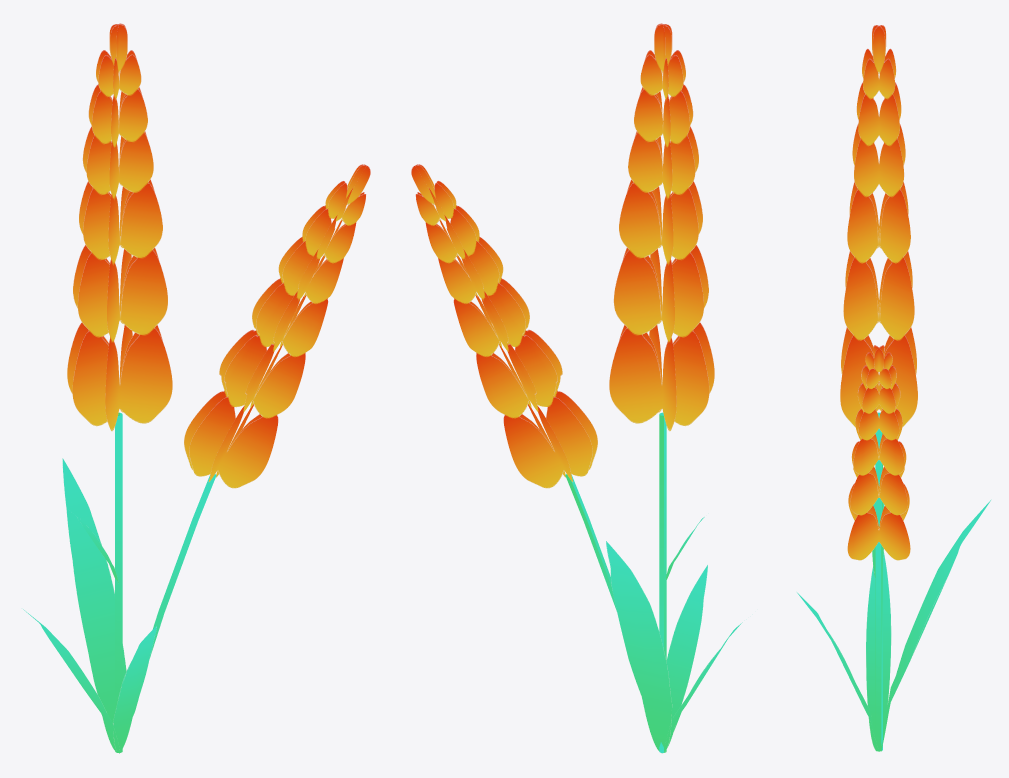
Rendered from Flowers_n03_07.fbx.
3 views of the same model, side by side, from view 1: azimuth 30°, elevation 25°; view 2: azimuth 150°, elevation 25°; view 3: azimuth 270°, elevation 25° (orthographic).
Parts seen in each view (by area): view 1: polySurface488; view 2: polySurface488; view 3: polySurface488.
Part boxes in pixels (x1,y1,x2,y2): polySurface488: [23, 23, 370, 753]; polySurface488: [411, 23, 742, 753]; polySurface488: [797, 25, 991, 751].
Size of the model in its own units: 44.87 by 89.64 by 21.91.
Materials: 1 (1 with a texture image).
